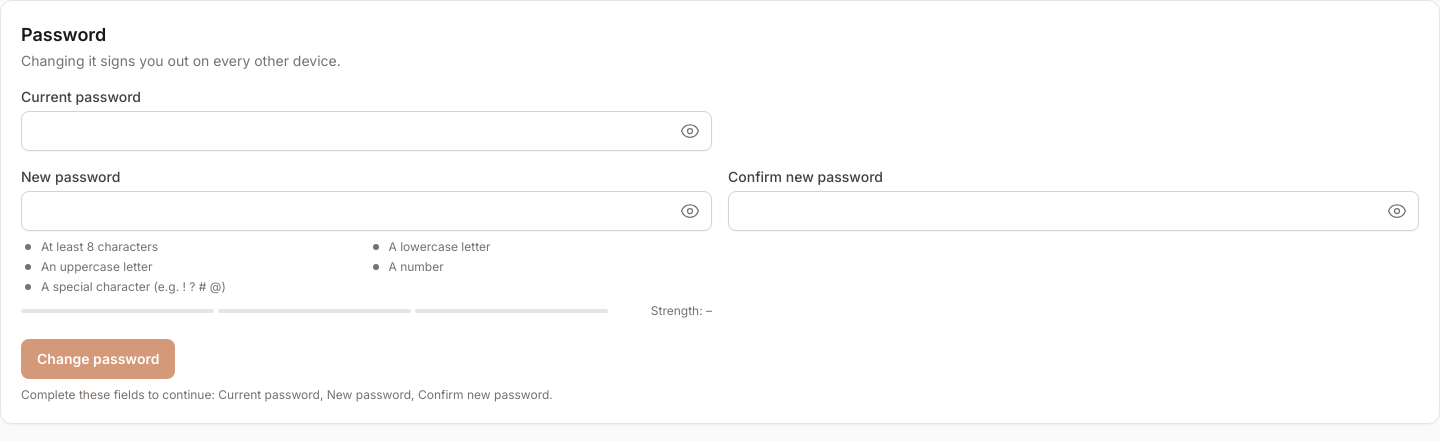
Scenario: ChangePasswordForm › disables the form while the change is in flight
Type "oldpass" into the password field labelled "Current password". click: x=366, y=131
box: left=21, top=111, right=712, bottom=151
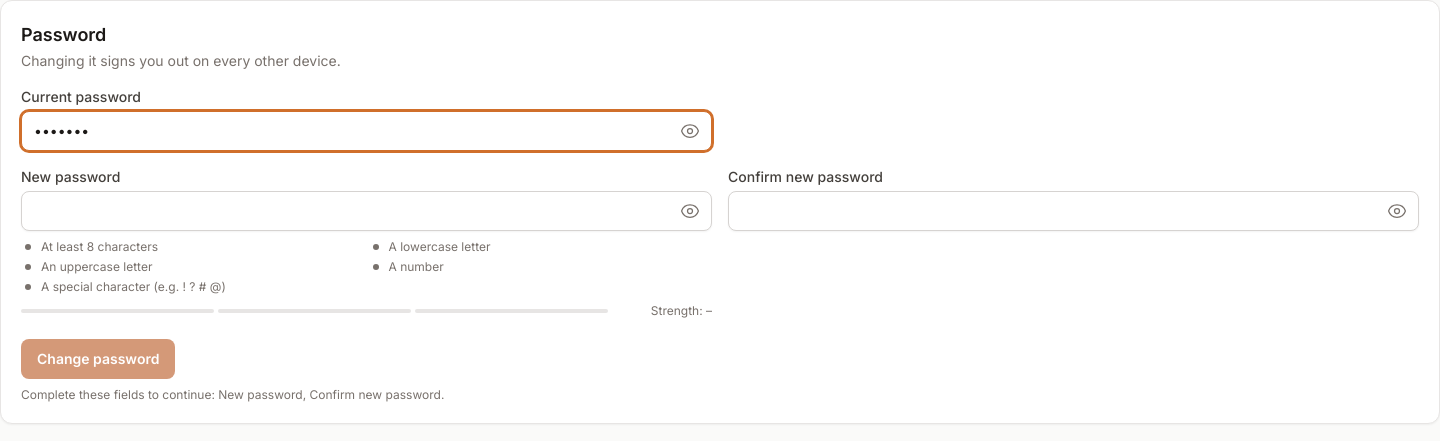
Type "Newpass-12" into the password field labelled "New password". click: x=366, y=211
box: left=21, top=191, right=712, bottom=231
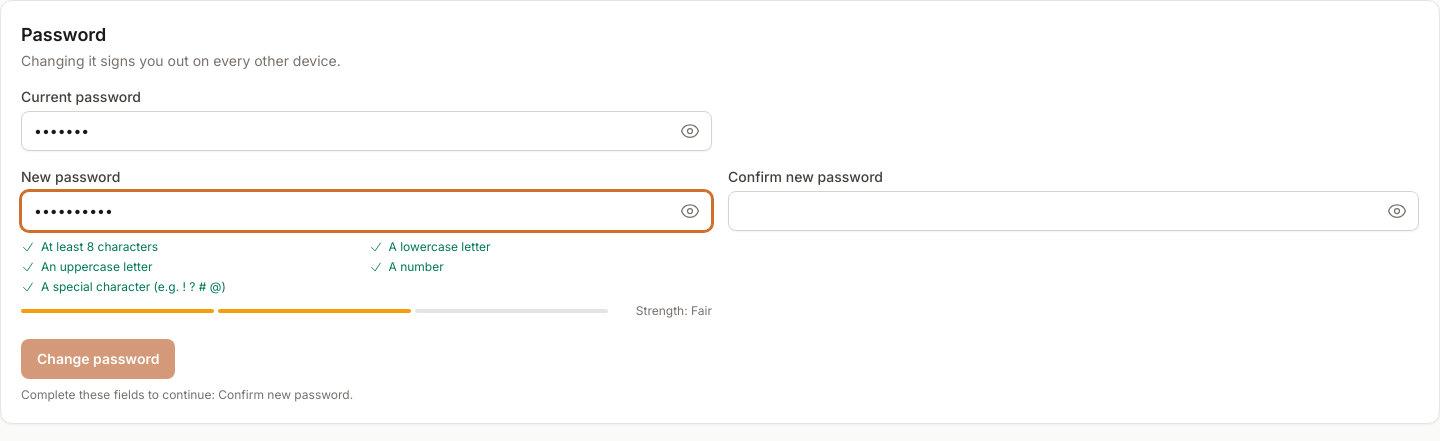
Type "Newpass-12" into the password field labelled "Confirm new password". click: x=1074, y=211
box: left=728, top=191, right=1419, bottom=231
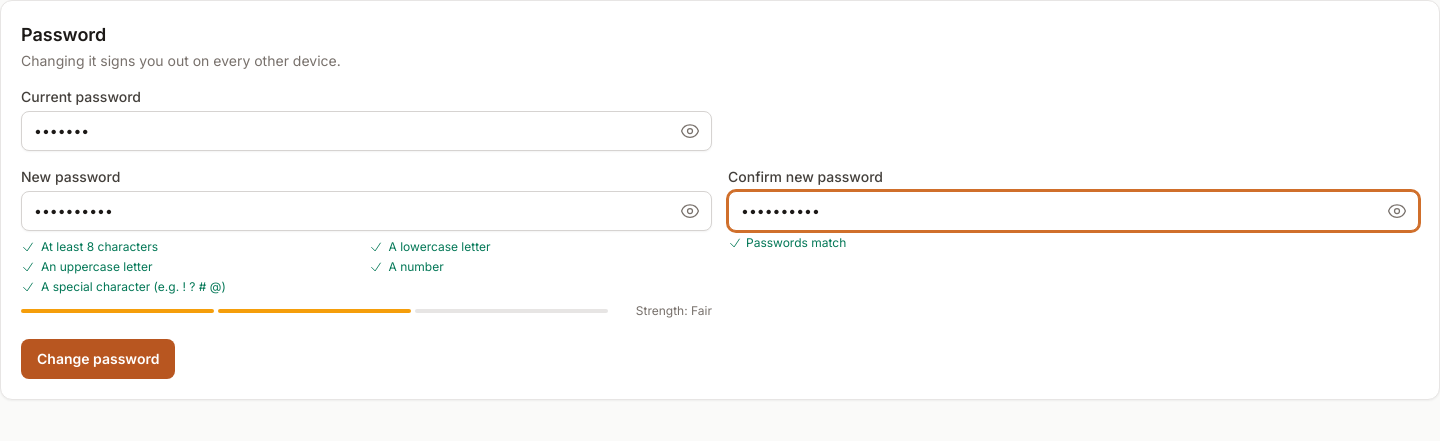
Click the button "Change password". click: x=98, y=359
box: left=21, top=339, right=175, bottom=379
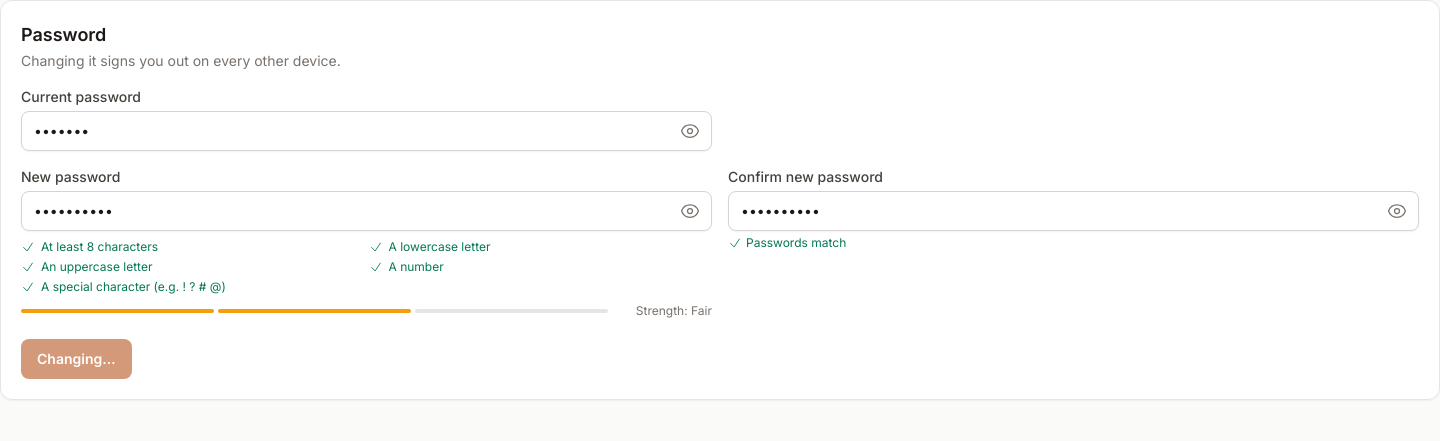
Expected: the password field labelled "New password" is disabled, left=21, top=191, right=712, bottom=231
Expected: the button "Changing…" is disabled, left=21, top=339, right=132, bottom=379
